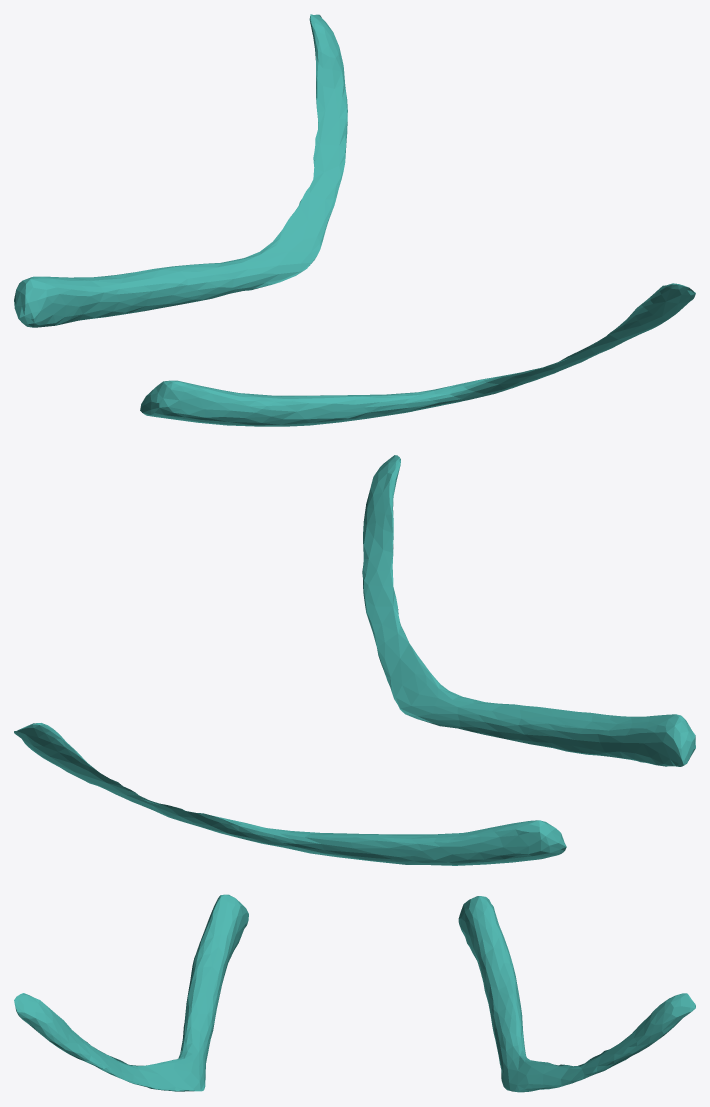
The picture shows the model from 3 angles, top to bottom: view 1: azimuth 30°, elevation 25°; view 2: azimuth 150°, elevation 25°; view 3: azimuth 270°, elevation 25°; orthographic projection. The views are drawn at different scales.
Parts seen in each view (by area): view 1: 906.obj; view 2: 906.obj; view 3: 906.obj.
Part boxes in pixels (bbox=[...]): 906.obj: bbox=[14, 14, 695, 426]; 906.obj: bbox=[14, 455, 695, 865]; 906.obj: bbox=[14, 894, 695, 1092].
Bounding box in the file's own units: 3490 × 1255 × 5269.
